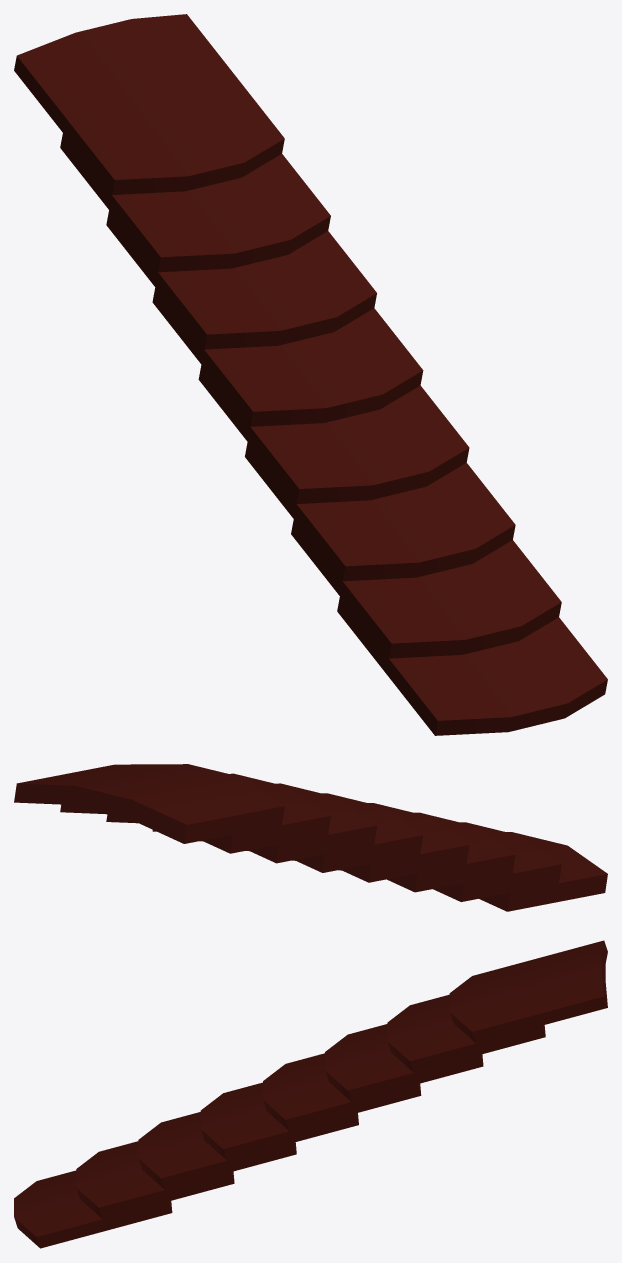
Rendered from RoofTileRow.FBX.
3 views of the same model, one above another, from view 1: azimuth 30°, elevation 25°; view 2: azimuth 150°, elevation 25°; view 3: azimuth 270°, elevation 25° (orthographic). The views are drawn at different scales.
Visible parts, largest first — view 1: RoofTile008, RoofTile001, RoofTile002, RoofTile005, RoofTile006, RoofTile004, RoofTile007, RoofTile003; view 2: RoofTile008, RoofTile007, RoofTile006, RoofTile003, RoofTile001, RoofTile005, RoofTile004, RoofTile002; view 3: RoofTile008, RoofTile002, RoofTile006, RoofTile004, RoofTile003, RoofTile007, RoofTile001, RoofTile005.
Part boxes in pixels (bbox=[...]): RoofTile008: bbox=[14, 14, 284, 194]; RoofTile001: bbox=[337, 597, 607, 735]; RoofTile002: bbox=[291, 519, 561, 658]; RoofTile005: bbox=[152, 288, 423, 426]; RoofTile006: bbox=[106, 210, 376, 349]; RoofTile004: bbox=[198, 365, 469, 503]; RoofTile007: bbox=[60, 133, 330, 272]; RoofTile003: bbox=[245, 442, 515, 581]; RoofTile008: bbox=[14, 764, 284, 843]; RoofTile007: bbox=[60, 773, 330, 853]; RoofTile006: bbox=[106, 783, 376, 863]; RoofTile003: bbox=[246, 812, 515, 892]; RoofTile001: bbox=[338, 832, 607, 911]; RoofTile005: bbox=[152, 793, 423, 872]; RoofTile004: bbox=[199, 803, 469, 882]; RoofTile002: bbox=[292, 822, 561, 901]; RoofTile008: bbox=[449, 940, 607, 1043]; RoofTile002: bbox=[76, 1141, 234, 1219]; RoofTile006: bbox=[325, 1024, 483, 1101]; RoofTile004: bbox=[200, 1082, 358, 1160]; RoofTile003: bbox=[138, 1112, 296, 1189]; RoofTile007: bbox=[387, 994, 545, 1072]; RoofTile001: bbox=[14, 1170, 172, 1248]; RoofTile005: bbox=[263, 1053, 421, 1131].
Bounding box in the file's own units: 50 × 108 × 224.
